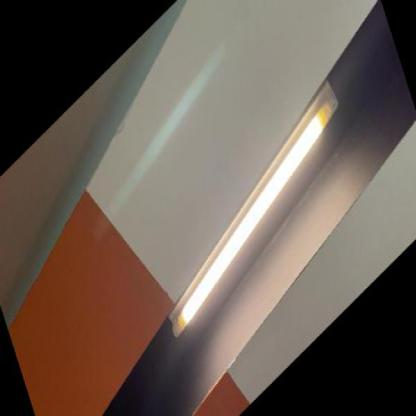light_on: (134, 53, 364, 362)
